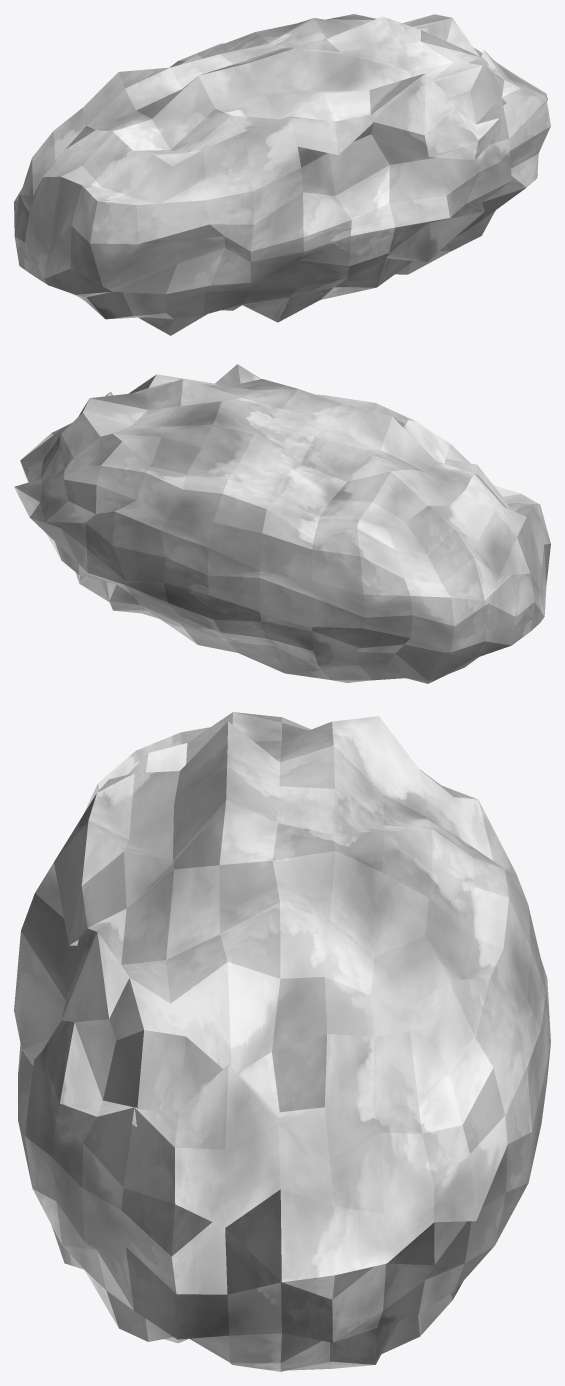
Rendered from nuvola.obj.
3 views of the same model, one above another, from view 1: azimuth 30°, elevation 25°; view 2: azimuth 150°, elevation 25°; view 3: azimuth 270°, elevation 25° (orthographic). The views are drawn at different scales.
Parts seen in each view (by area): view 1: nuvola_Cube.002; view 2: nuvola_Cube.002; view 3: nuvola_Cube.002.
Part boxes in pixels (left/top/right/bottom): nuvola_Cube.002: left=14, top=14, right=550, bottom=335; nuvola_Cube.002: left=14, top=364, right=550, bottom=683; nuvola_Cube.002: left=14, top=712, right=550, bottom=1371.
Bounding box in the file's own units: 4.4 × 2.11 × 2.1.
